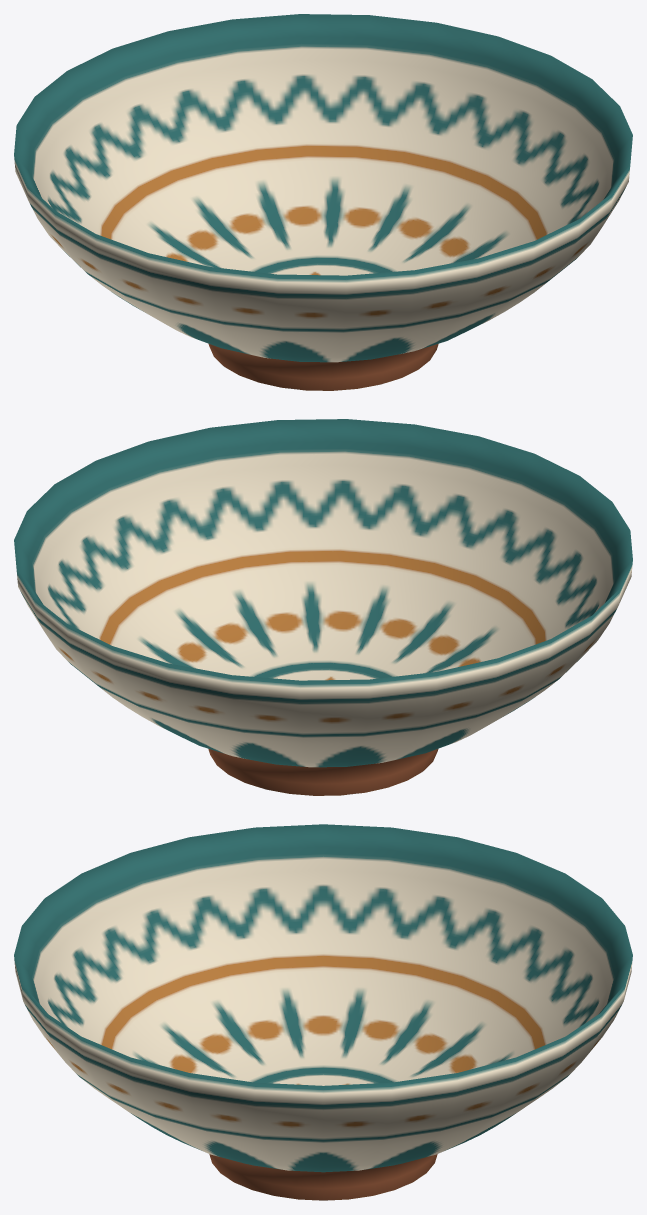
The model's file is prop-bowl-a.glb.
3 views of the same model, one above another, from view 1: azimuth 30°, elevation 25°; view 2: azimuth 150°, elevation 25°; view 3: azimuth 270°, elevation 25° (orthographic).
Visible parts, largest first — view 1: piece_PaintedBowlA; view 2: piece_PaintedBowlA; view 3: piece_PaintedBowlA.
Part boxes in pixels (x1,y1,x2,y2): piece_PaintedBowlA: (14, 14, 632, 390); piece_PaintedBowlA: (14, 419, 632, 795); piece_PaintedBowlA: (14, 824, 632, 1200).
Bounding box in the file's own units: 0.2383 × 0.0838 × 0.2383.
1 material, 1 textured.
